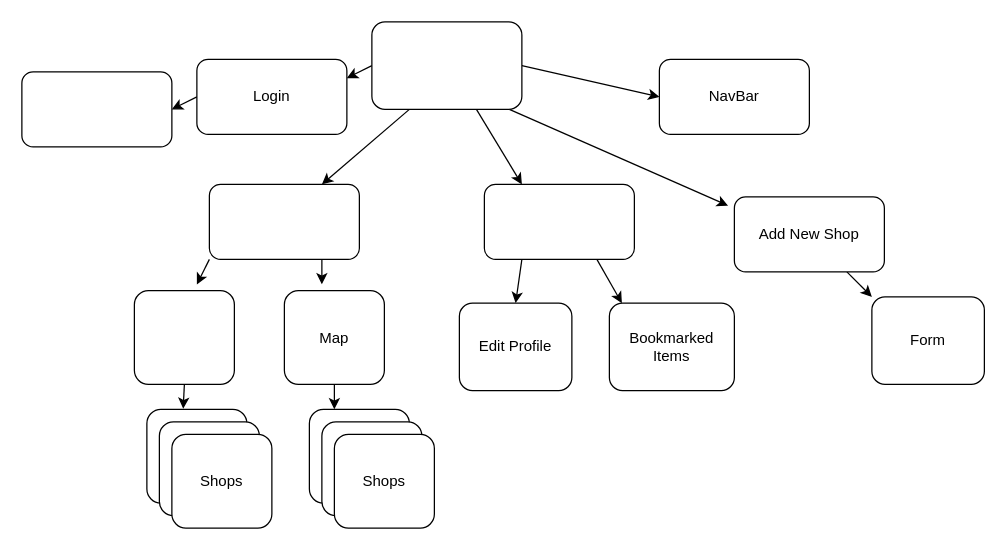
Some shapes in this 1006 by 550 pixel diagram are drawn without their labels. Here are the shapes that lost their labels. From the top down, the centre of each, then its label:
At pixel 446 65: "App".
At pixel 96 109: "SignUp".
At pixel 283 221: "Home Page".
At pixel 558 221: "Profile Page".
At pixel 183 336: "Shop Container".
